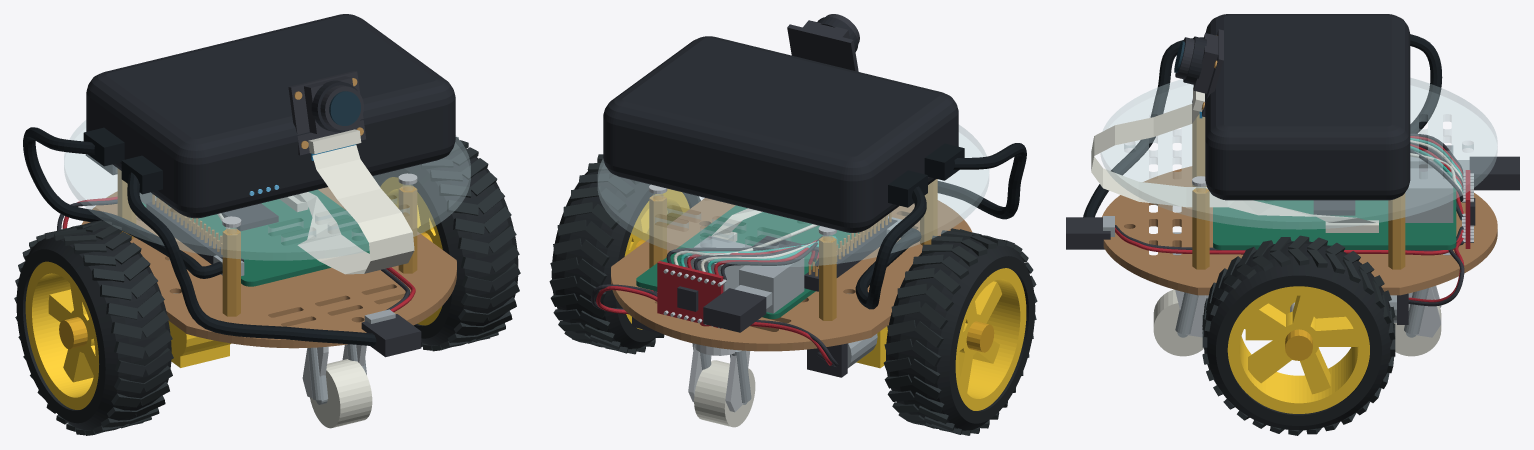
The model's file is robot-assembly.glb.
3 renders of one model, left to right at view 1: azimuth 30°, elevation 25°; view 2: azimuth 150°, elevation 25°; view 3: azimuth 270°, elevation 25°, orthographic. The views are drawn at different scales.
Visible parts, largest first — view 1: Anker battery — case, Upper acrylic deck — clear, Lower chassis plate — brown, Right drive wheel — rubber, Right drive wheel — tread, CSI ribbon — white, Left drive wheel — tread, Left drive wheel — rubber, Right drive wheel — yellow, Raspberry Pi — green, Motor power cable — seam, Pi power cable — seam (+14 smaller); view 2: Anker battery — case, Upper acrylic deck — clear, Lower chassis plate — brown, Right drive wheel — rubber, Right drive wheel — tread, Left drive wheel — tread, Right drive wheel — yellow, Left drive wheel — rubber, Raspberry Pi — green, Motor power cable — seam, Pi power cable — seam, Deck standoffs — brass (+22 smaller); view 3: Anker battery — case, Upper acrylic deck — clear, Lower chassis plate — brown, Left drive wheel — yellow, Left drive wheel — rubber, Raspberry Pi — green, Left drive wheel — tread, CSI ribbon — white, Deck standoffs — brass, Raspberry Pi — metal, Motor power cable — seam, Front swivel caster — white (+18 smaller).
Boxes of the visible parts, x1,y1,x2,y2 form: Anker battery — case: [86, 14, 455, 218]; Upper acrylic deck — clear: [64, 120, 470, 260]; Lower chassis plate — brown: [81, 187, 456, 348]; Right drive wheel — rubber: [16, 225, 171, 430]; Right drive wheel — tread: [14, 220, 173, 435]; CSI ribbon — white: [293, 145, 414, 274]; Left drive wheel — tread: [421, 137, 520, 351]; Left drive wheel — rubber: [373, 148, 518, 345]; Right drive wheel — yellow: [25, 261, 99, 409]; Raspberry Pi — green: [142, 189, 369, 286]; Motor power cable — seam: [121, 155, 376, 346]; Pi power cable — seam: [23, 127, 222, 278]; Anker battery — case: [603, 36, 958, 232]; Upper acrylic deck — clear: [598, 125, 988, 266]; Lower chassis plate — brown: [611, 198, 971, 351]; Right drive wheel — rubber: [886, 235, 1035, 430]; Right drive wheel — tread: [883, 228, 1037, 435]; Left drive wheel — tread: [549, 154, 700, 354]; Right drive wheel — yellow: [955, 268, 1026, 410]; Left drive wheel — rubber: [551, 162, 698, 349]; Raspberry Pi — green: [636, 205, 858, 318]; Motor power cable — seam: [924, 143, 1026, 219]; Pi power cable — seam: [855, 170, 927, 309]; Deck standoffs — brass: [649, 179, 937, 320]; Anker battery — case: [1205, 14, 1410, 200]; Upper acrylic deck — clear: [1100, 78, 1497, 229]; Lower chassis plate — brown: [1102, 166, 1497, 295]; Left drive wheel — yellow: [1227, 286, 1369, 413]; Left drive wheel — rubber: [1204, 241, 1392, 430]; Raspberry Pi — green: [1213, 187, 1456, 249]; Left drive wheel — tread: [1202, 235, 1395, 435]; CSI ribbon — white: [1091, 103, 1375, 222]; Deck standoffs — brass: [1192, 114, 1405, 269]; Raspberry Pi — metal: [1405, 145, 1453, 222]; Motor power cable — seam: [1083, 37, 1203, 217]; Front swivel caster — white: [1153, 289, 1203, 356].
Size of the model in its own units: 0.15 by 0.116 by 0.153.
